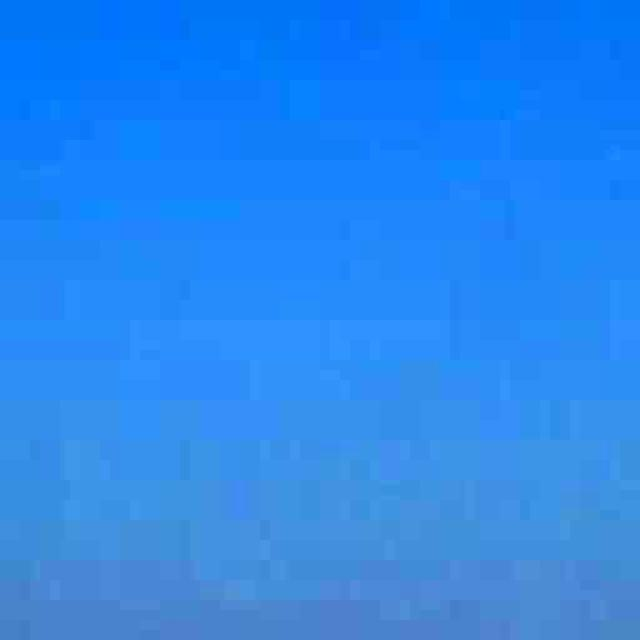bird: (188, 0, 255, 18)
